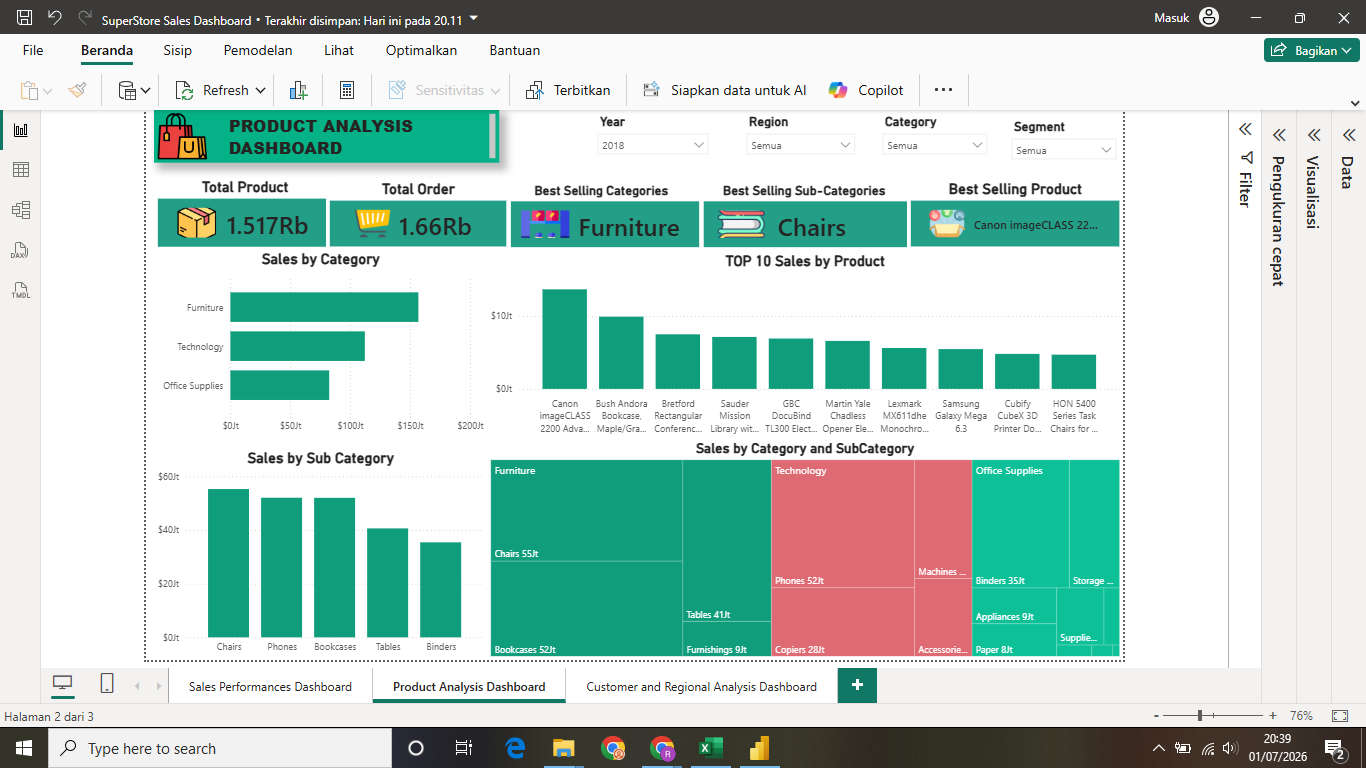

What the dashboard file says about the page in this screenshot:
{"tool":"powerbi","page":{"name":"Product Analysis Dashboard","canvas":[1280,720],"ordinal":1},"visuals":[{"type":"textbox","box":[10.1,0,451.9,68.9],"z":0},{"type":"image","box":[13.4,0,68.9,68.9],"z":1000},{"type":"cardVisual","title":"Best Selling Sub-Categories","fields":{"Data":["train2.Best Selling Sub Category"]},"box":[714.2,95,293.8,89.3],"z":2000},{"type":"cardVisual","title":"Best Selling Categories","fields":{"Data":["train2.Best Selling Category"]},"box":[462.2,95,267.8,89.3],"z":3000},{"type":"cardVisual","title":"Total Product","fields":{"Data":["train2.Total Product"]},"box":[10.1,89.3,239,95],"z":4000},{"type":"slicer","fields":{"Values":["train2.Order Date.Variasi.Hierarki Tanggal.Tahun"]},"box":[580.9,0,165.5,72.6],"z":5000},{"type":"cardVisual","title":"Total Order","fields":{"Data":["train2.Total Order"]},"box":[236.2,92.2,241.9,92.2],"z":6000},{"type":"cardVisual","title":"Best Selling Product","fields":{"Data":["train2.Best Selling Product"]},"box":[996.5,92.2,283.7,92.2],"z":7000},{"type":"barChart","title":"Sales by Category","fields":{"Category":["train2.Category"],"Y":["Sum(train2.Sales)"]},"box":[10.1,183.8,436.8,247.9],"z":8000},{"type":"columnChart","title":"Sales by Sub Category","fields":{"Category":["train2.Sub-Category"],"Y":["Sum(train2.Sales)"]},"box":[10.1,443.5,436.8,276.6],"z":9000},{"type":"columnChart","title":"TOP 10 Sales by Product","fields":{"Category":["train2.Product Name"],"Y":["Sum(train2.Sales)"]},"box":[446.9,185.5,833.1,246.2],"z":10000},{"type":"treemap","title":"Sales by Category and SubCategory","fields":{"Group":["train2.Category"],"Details":["train2.Sub-Category"],"Values":["Sum(train2.Sales)"]},"box":[446.9,431.7,833.1,288.4],"z":11000},{"type":"slicer","fields":{"Values":["train2.Segment"]},"box":[1123,6.8,157,72.6],"z":12000},{"type":"slicer","fields":{"Values":["train2.Region"]},"box":[776.8,0,162.1,72.6],"z":13000},{"type":"slicer","fields":{"Values":["train2.Category"]},"box":[954.1,0,157,72.6],"z":14000}]}

Visuals, with their boxes on the page's 1280x720 design canvas (x1, y1, x2, y2). These are canvas units, not pixel positions in the 1366x768 screenshot, which may show the page scaled, cropped or inside an application window:
textbox: 10/0/462/69
image: 13/0/82/69
"Best Selling Sub-Categories" cardVisual: 714/95/1008/184
"Best Selling Categories" cardVisual: 462/95/730/184
"Total Product" cardVisual: 10/89/249/184
slicer - train2.Order Date.Variasi.Hierarki Tanggal.Tahun: 581/0/746/73
"Total Order" cardVisual: 236/92/478/184
"Best Selling Product" cardVisual: 996/92/1280/184
"Sales by Category" barChart: 10/184/447/432
"Sales by Sub Category" columnChart: 10/444/447/720
"TOP 10 Sales by Product" columnChart: 447/186/1280/432
"Sales by Category and SubCategory" treemap: 447/432/1280/720
slicer - train2.Segment: 1123/7/1280/79
slicer - train2.Region: 777/0/939/73
slicer - train2.Category: 954/0/1111/73
